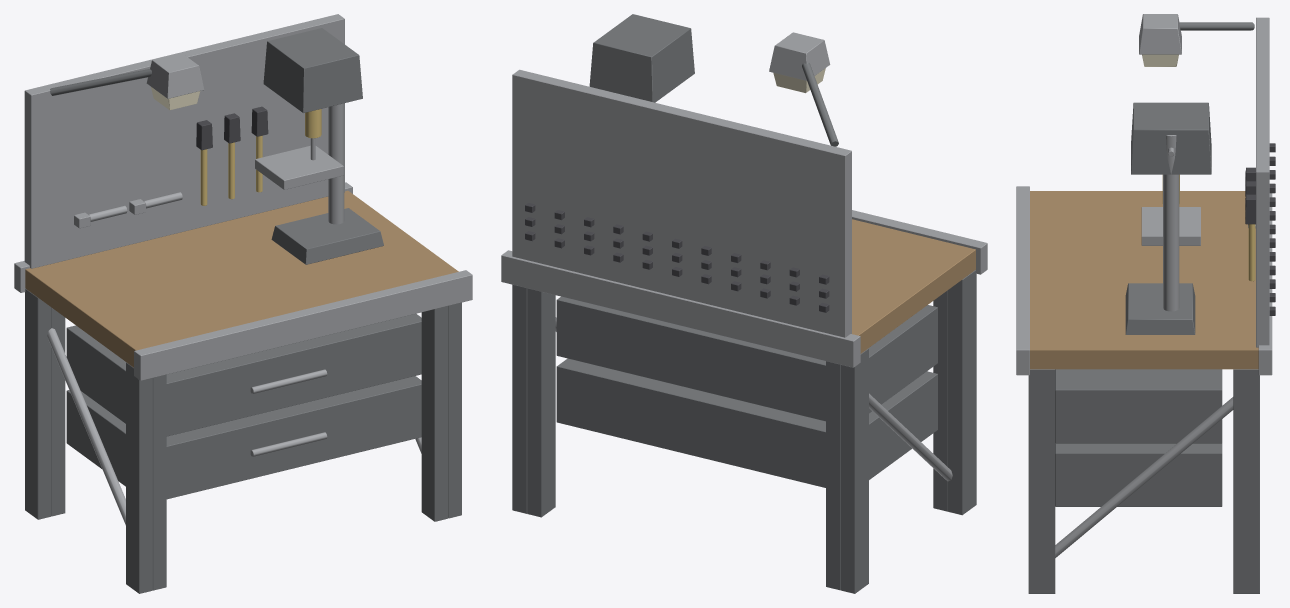
The model's file is DD_workbench2.fbx.
The picture shows the model from 3 angles, left to right: view 1: azimuth 30°, elevation 25°; view 2: azimuth 150°, elevation 25°; view 3: azimuth 270°, elevation 25°; orthographic projection. The views are drawn at different scales.
Visible parts, largest first — view 1: DD_workbench2; view 2: DD_workbench2; view 3: DD_workbench2.
Boxes of the visible parts, x1,y1,x2,y2 form: DD_workbench2: (14, 14, 472, 593); DD_workbench2: (501, 14, 987, 593); DD_workbench2: (1016, 14, 1275, 593).
Bounding box in the file's own units: 1.44 × 1.9 × 0.9625.
